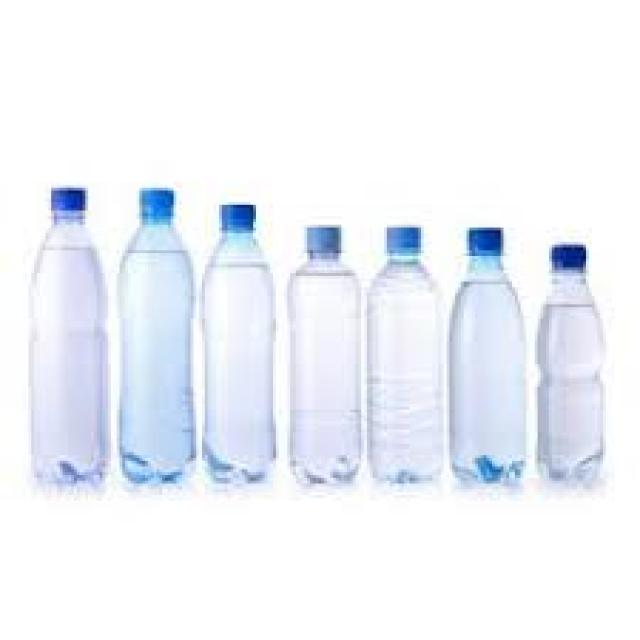plastic cup: (119, 189, 194, 482), (31, 188, 105, 482), (202, 205, 275, 482), (450, 228, 525, 482), (368, 228, 442, 482), (289, 228, 361, 482), (539, 244, 602, 479)
